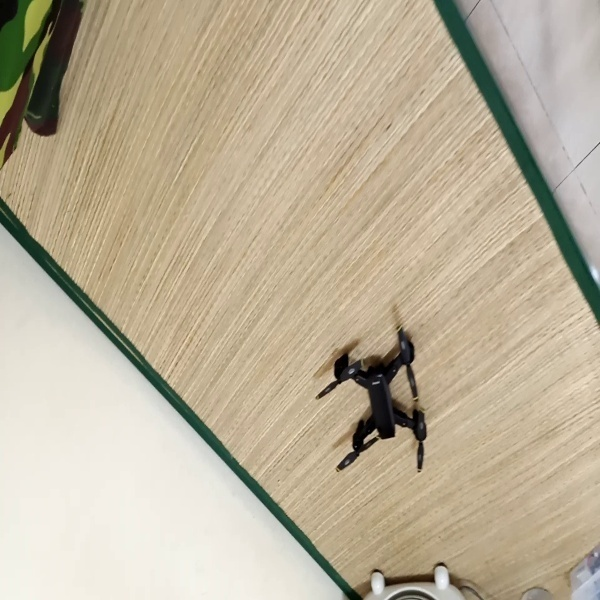drone: (312, 322, 429, 478)
